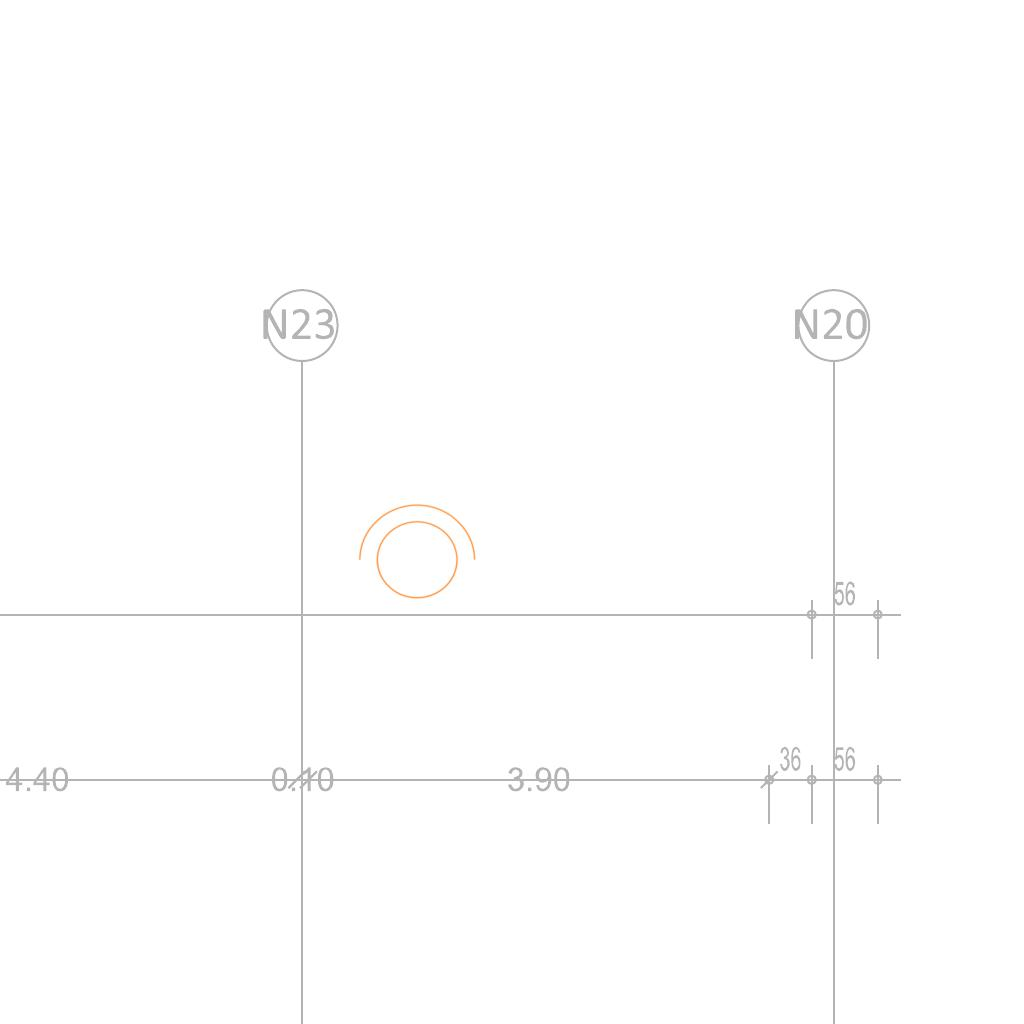Scheinwerfer_fuer_Alarmbeleuchtung: (348, 499, 480, 611)
